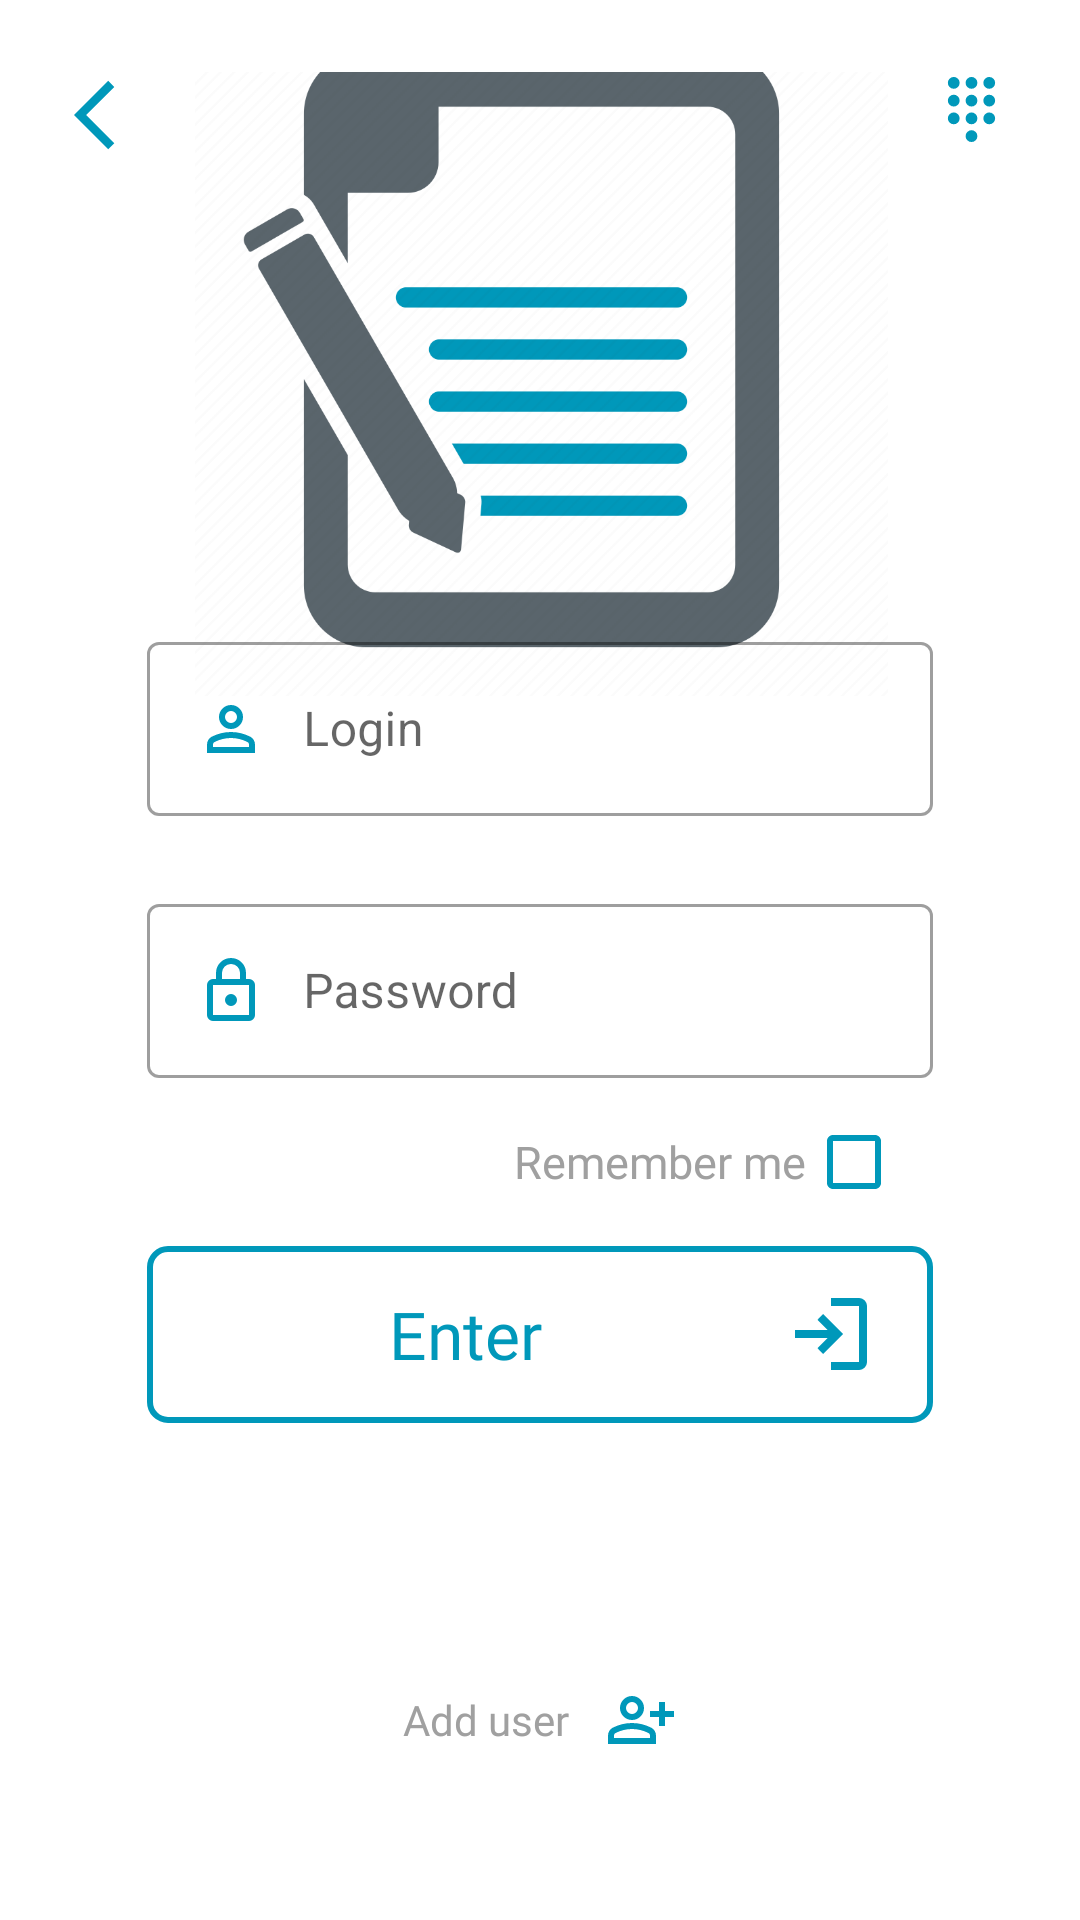

Icon click points for this 1080×1920 phone screenshot, format [x,y]:
Press to back: [94,115]
Start with a PIN code: [971,109]
